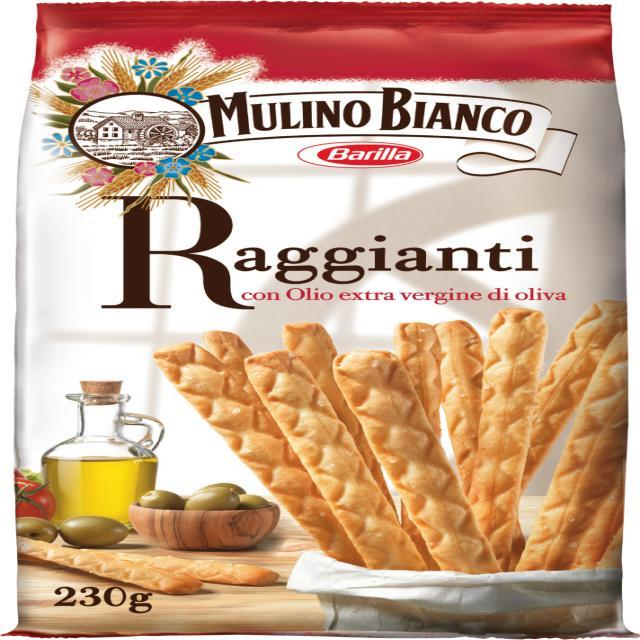Grissini: (326, 308, 567, 566)
